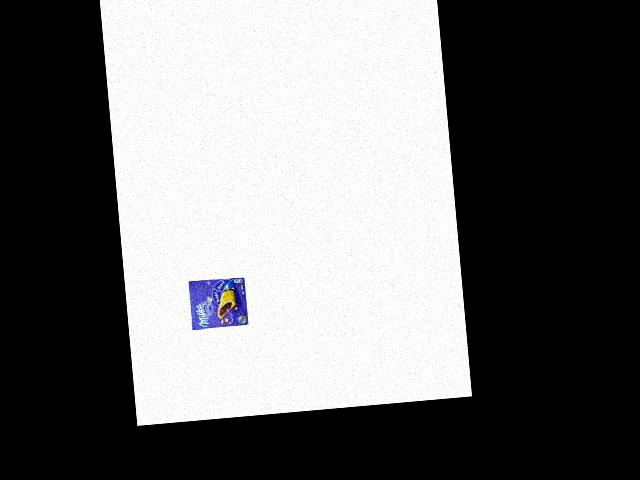chocolate: (184, 274, 252, 333)
